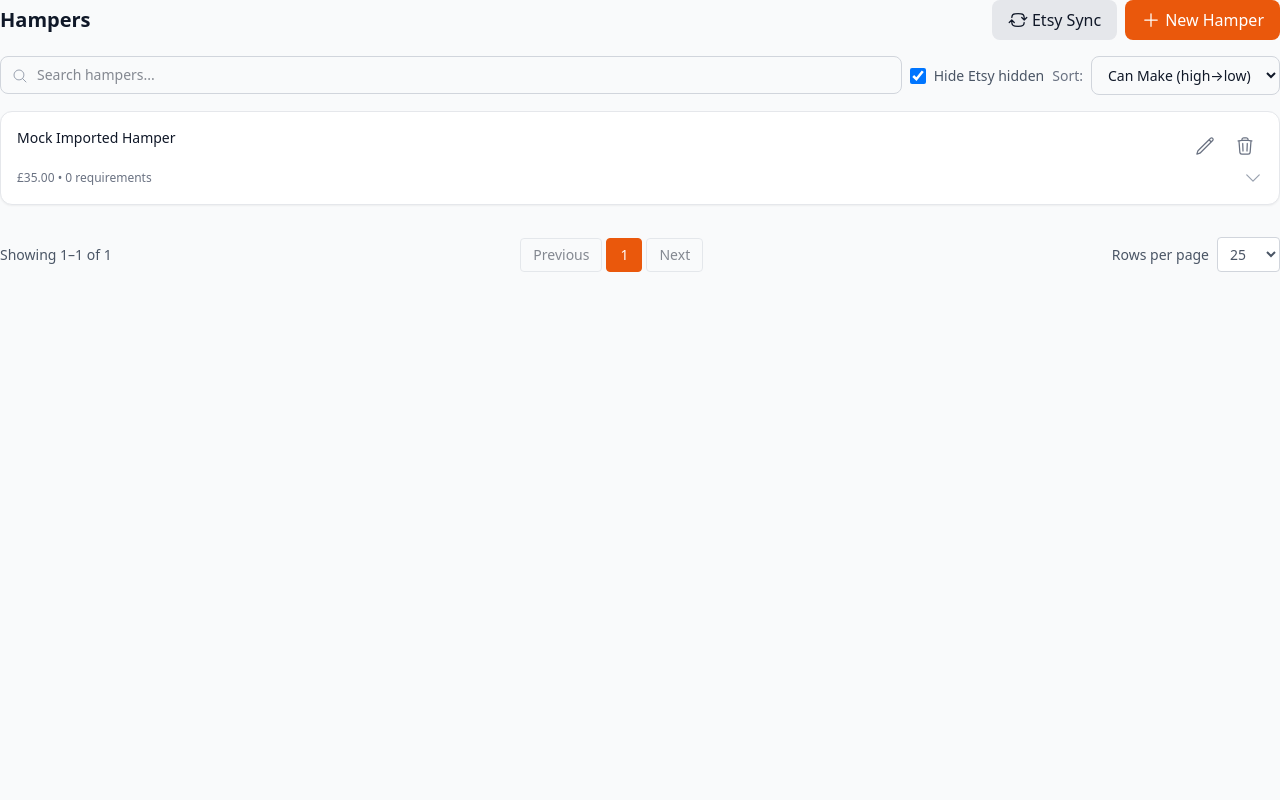
Hampers › edit hamper › scrolls to the form when editing a hamper
expect the text "Mock Imported Hamper" is shown: met, box [17,128,176,148]
What coordinates should you click on to do the following:
click the button named "Edit hamper Mock Imported Hamper"
I would click on:
 (1205, 146)
Its box is [1187,128,1223,164].
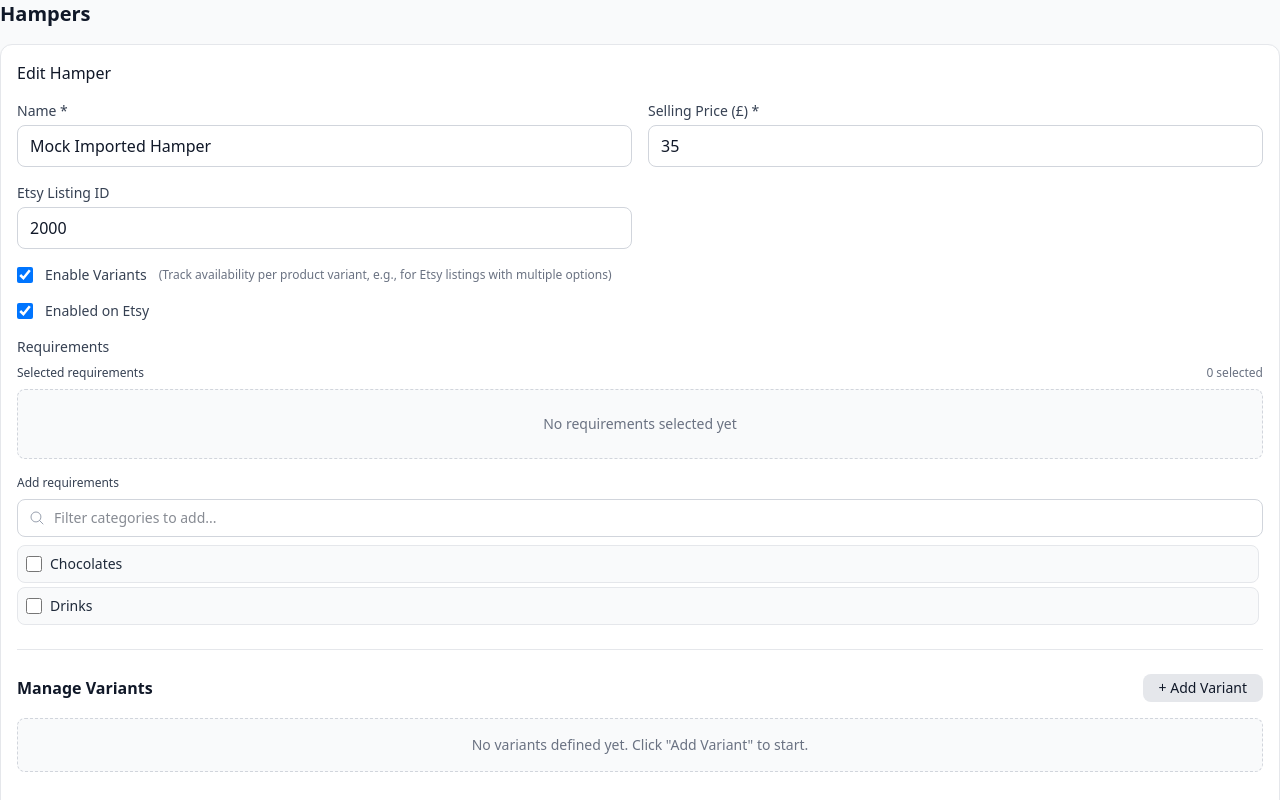
expect the heading "Edit Hamper" is shown: met, box [17,62,111,84]
